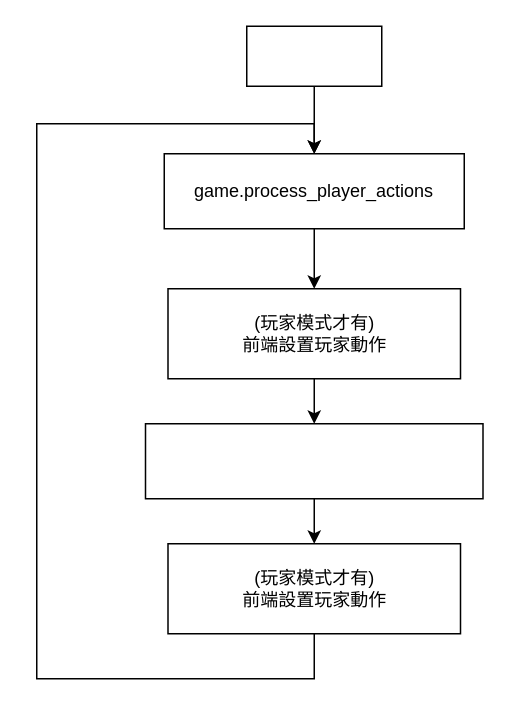
Image size: 510x717. Some labels were removed from this diagram. The centre of each missing label's shape, as x and y in pixels:
game.get_next_player_behavior: point 313,460
初始化遊戲: point 313,55
